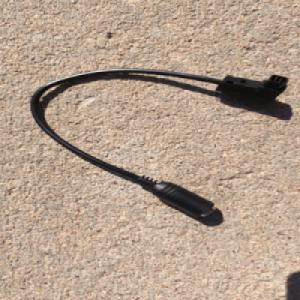Wire: (30, 67, 289, 219)
